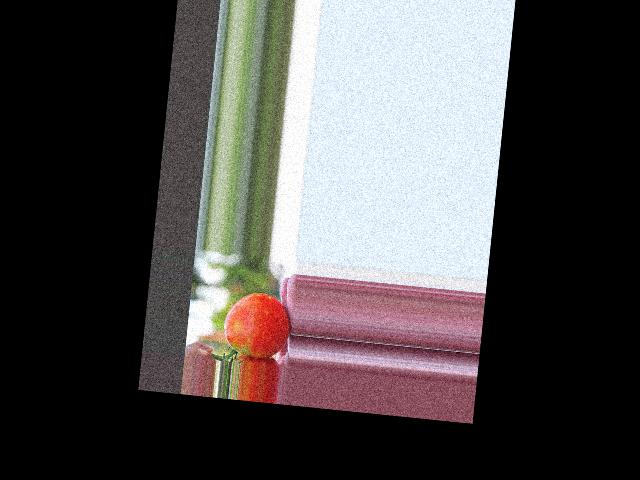tomato: (221, 289, 292, 360)
